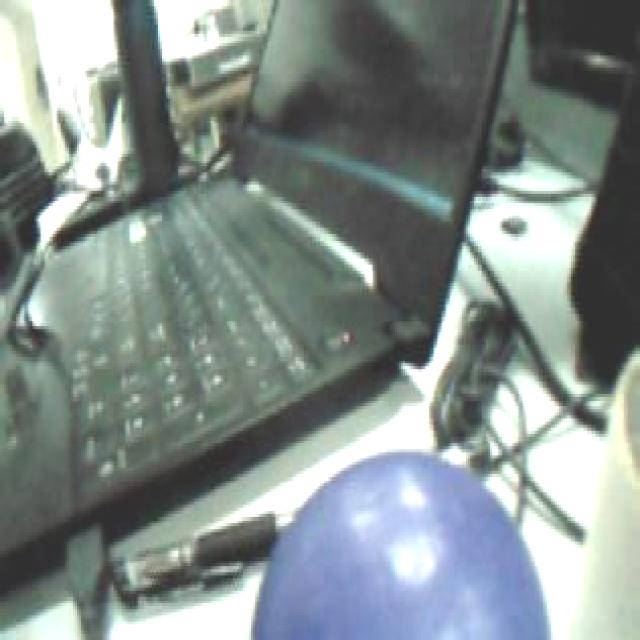BallPurple: (253, 446, 553, 640)
